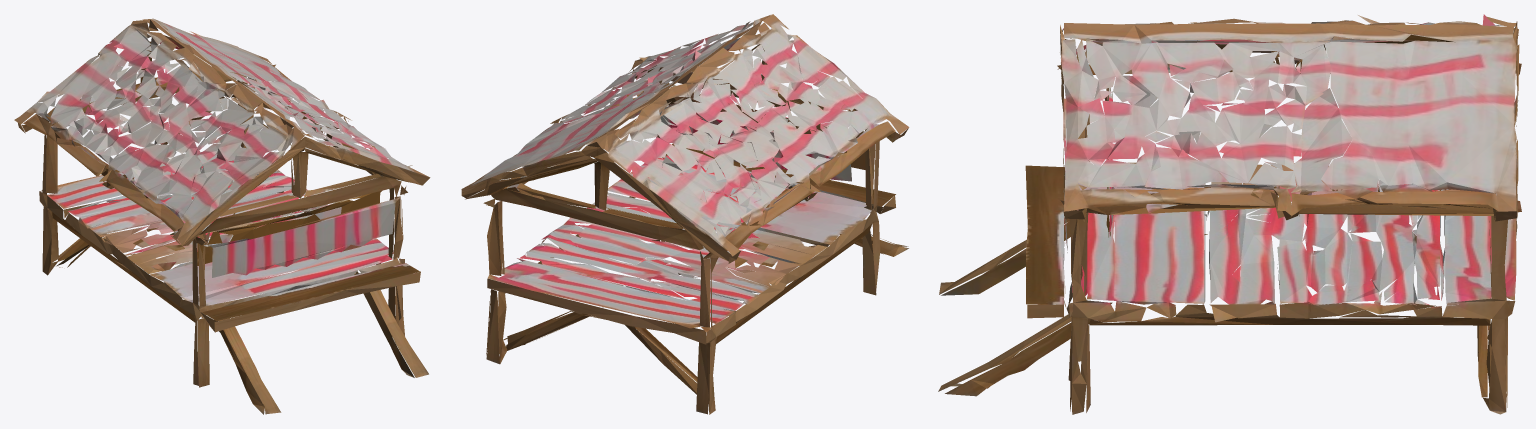
Rendered from stall.glb.
3 views of the same model, side by side, from view 1: azimuth 30°, elevation 25°; view 2: azimuth 150°, elevation 25°; view 3: azimuth 270°, elevation 25° (orthographic). The views are drawn at different scales.
Visible parts, largest first — view 1: textured_mesh.obj; view 2: textured_mesh.obj; view 3: textured_mesh.obj.
Part boxes in pixels (x1,y1,x2,y2): textured_mesh.obj: (14, 18, 430, 414); textured_mesh.obj: (461, 14, 909, 414); textured_mesh.obj: (938, 14, 1521, 414).
Bounding box in the file's own units: 1.15 × 1.01 × 1.64.
1 material, 1 textured.
